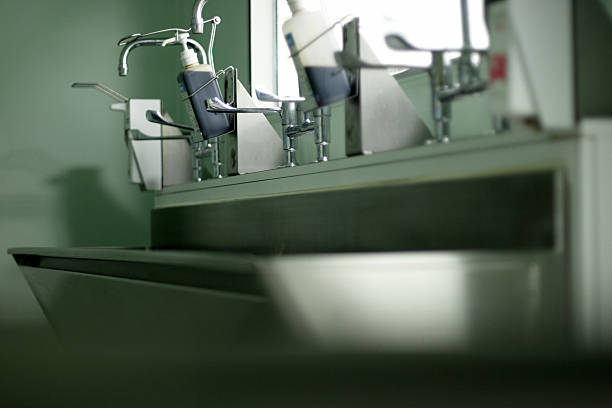dispenser: (160, 27, 234, 148), (275, 1, 360, 102)
faucet: (326, 33, 495, 145), (208, 90, 335, 173), (125, 109, 204, 183)
